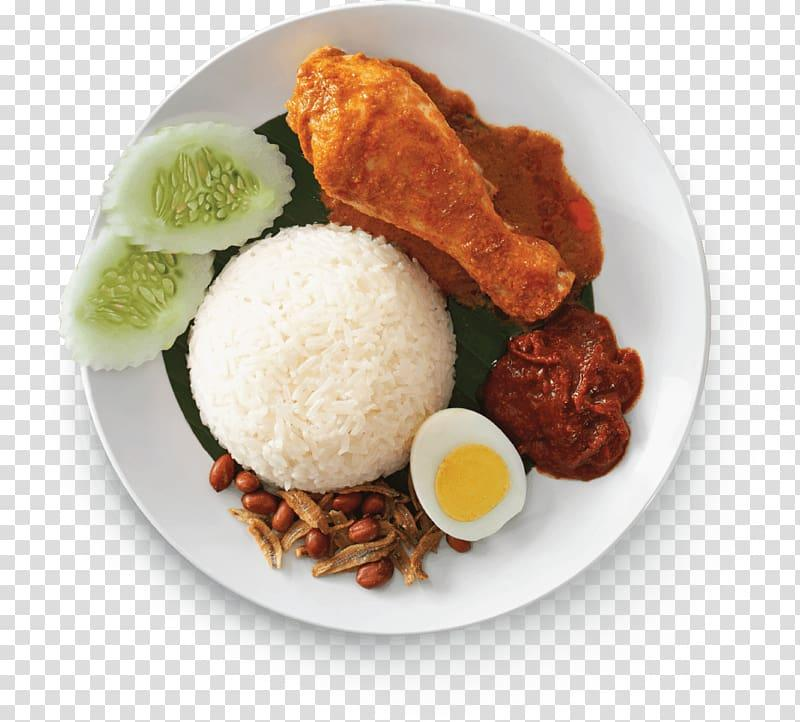Anchovies: (228, 471, 442, 586)
Boiled-Egg: (409, 409, 529, 548)
Cucumber: (60, 122, 296, 372)
Peanuts: (210, 454, 328, 559), (331, 493, 385, 543), (357, 559, 393, 589), (447, 536, 472, 553)
Rendang-Chicken: (284, 47, 605, 324)
Rice: (191, 220, 456, 492)
Sambal: (494, 313, 644, 484)
